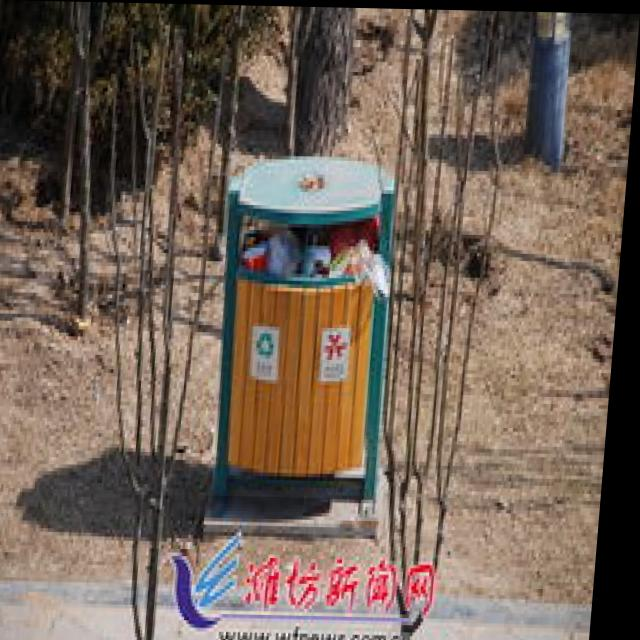overflow: (207, 150, 404, 497)
